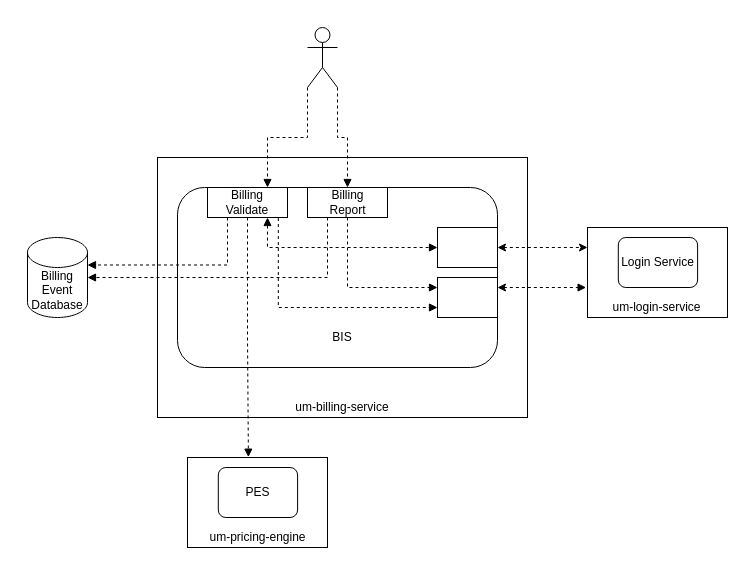
Image size: 745x565. Some labels were removed from this diagram. The centre of each missing label's shape, as x and y in pixels:
OIDC Client: point 467,297
SCIM Client: point 467,247
User: point 322,57
